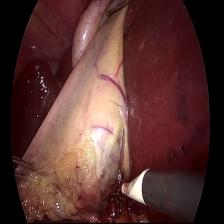Grasper: (11, 147, 37, 189)
Hook: (115, 163, 150, 212)
